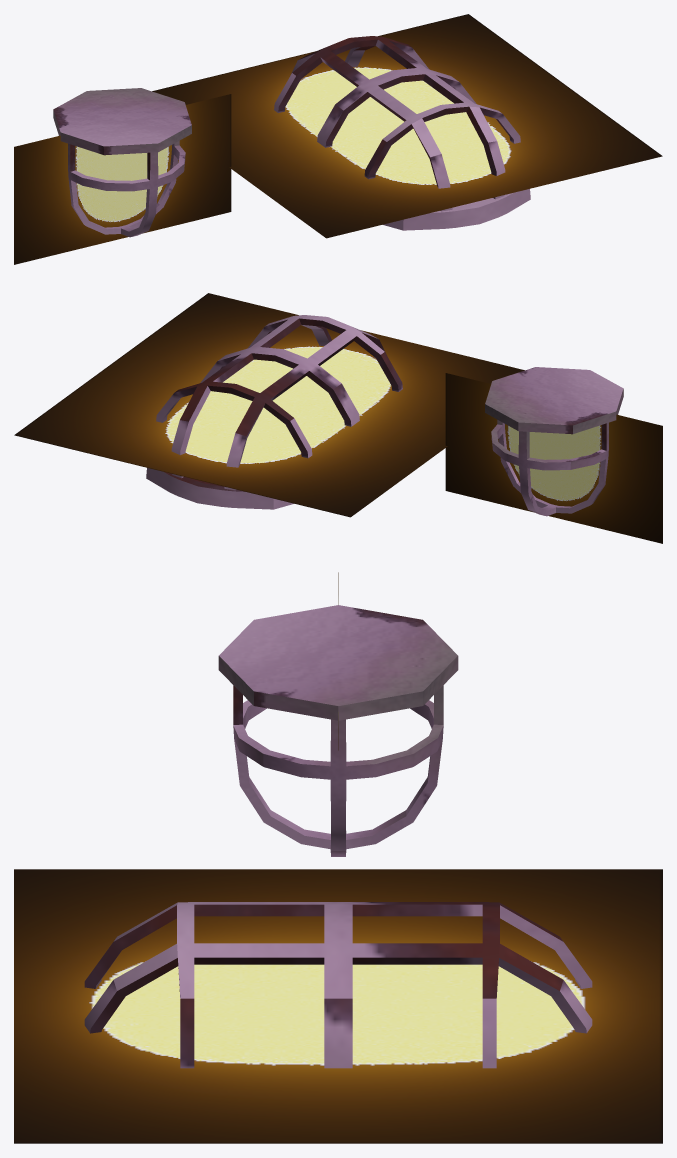
File: sub_lights_textured_000.fbx
3 views of the same model, one above another, from view 1: azimuth 30°, elevation 25°; view 2: azimuth 150°, elevation 25°; view 3: azimuth 270°, elevation 25° (orthographic). The views are drawn at different scales.
Parts seen in each view (by area): view 1: light.wall.billboard.000, light.ceiling.billboard.000, light.wall.cage.000, light.ceiling.cage.000; view 2: light.wall.billboard.000, light.ceiling.billboard.000, light.wall.cage.000, light.ceiling.cage.000; view 3: light.wall.billboard.000, light.ceiling.cage.000, light.wall.cage.000.
Boxes of the visible parts, bbox=[...] form: light.wall.billboard.000: bbox=[152, 14, 662, 238]; light.ceiling.billboard.000: bbox=[14, 94, 231, 264]; light.wall.cage.000: bbox=[274, 36, 530, 230]; light.ceiling.cage.000: bbox=[53, 88, 191, 237]; light.wall.billboard.000: bbox=[14, 293, 524, 517]; light.ceiling.billboard.000: bbox=[445, 373, 662, 543]; light.wall.cage.000: bbox=[146, 315, 402, 509]; light.ceiling.cage.000: bbox=[485, 367, 623, 516]; light.wall.billboard.000: bbox=[14, 869, 662, 1143]; light.ceiling.cage.000: bbox=[218, 605, 458, 856]; light.wall.cage.000: bbox=[84, 902, 592, 1068].
Bounding box in the file's own units: 208 × 43.67 × 127.
